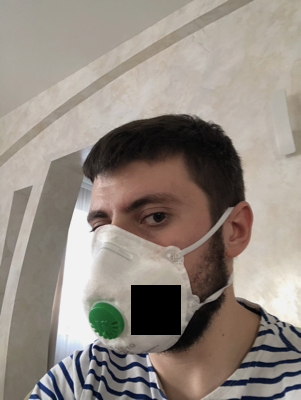with_mask: (80, 180, 212, 356)
